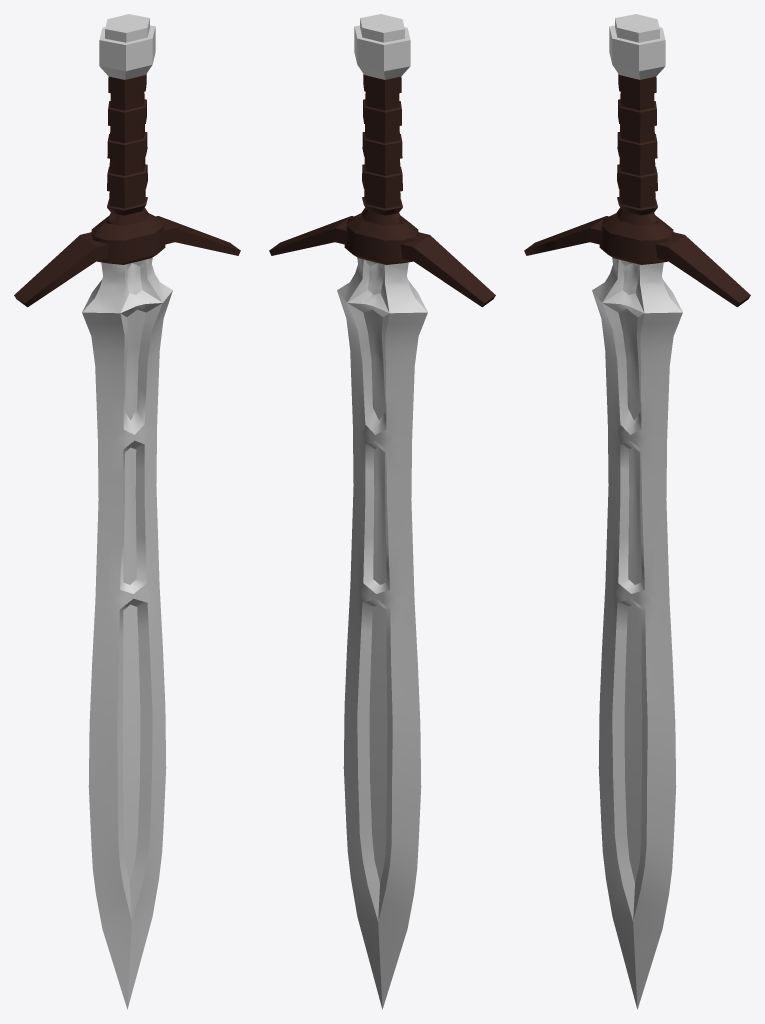
File: SwordFPS.fbx
The picture shows the model from 3 angles, left to right: view 1: azimuth 30°, elevation 25°; view 2: azimuth 150°, elevation 25°; view 3: azimuth 330°, elevation 25°; orthographic projection.
Parts seen in each view (by area): view 1: ShortSword; view 2: ShortSword; view 3: ShortSword.
Boxes of the visible parts, x1,y1,x2,y2 form: ShortSword: (14,14,240,1009); ShortSword: (269,14,495,1009); ShortSword: (524,14,750,1009).
Bounding box in the file's own units: 2.22 × 9.68 × 0.5053.
